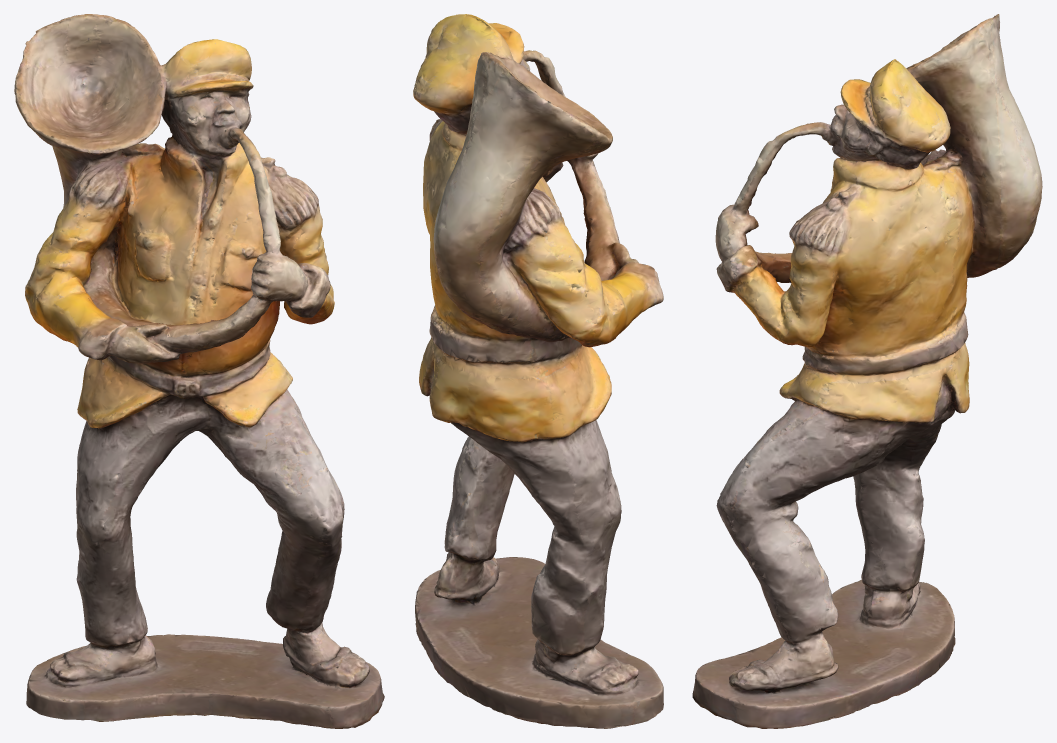
File: khanna-patinder-rawat-trumpet-walae.glb
3 renders of one model, left to right at view 1: azimuth 30°, elevation 25°; view 2: azimuth 150°, elevation 25°; view 3: azimuth 270°, elevation 25°, orthographic. The views are drawn at different scales.
Visible parts, largest first — view 1: Trumpet_Musician_Orange; view 2: Trumpet_Musician_Orange; view 3: Trumpet_Musician_Orange.
Part boxes in pixels (<box>): Trumpet_Musician_Orange: <box>14,14,384,728</box>; Trumpet_Musician_Orange: <box>413,14,663,728</box>; Trumpet_Musician_Orange: <box>692,14,1042,728</box>.
Size of the model in its own units: 0.2323 by 0.5 by 0.2543.
1 material, 1 textured.
